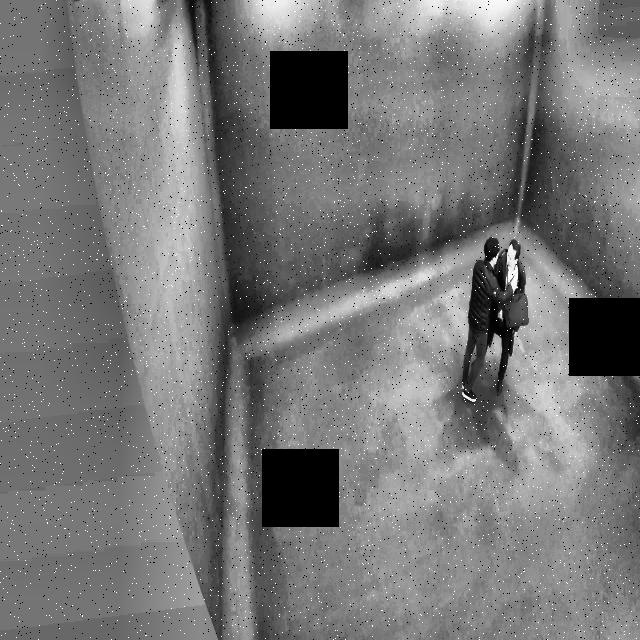assult: (458, 226, 530, 318)
